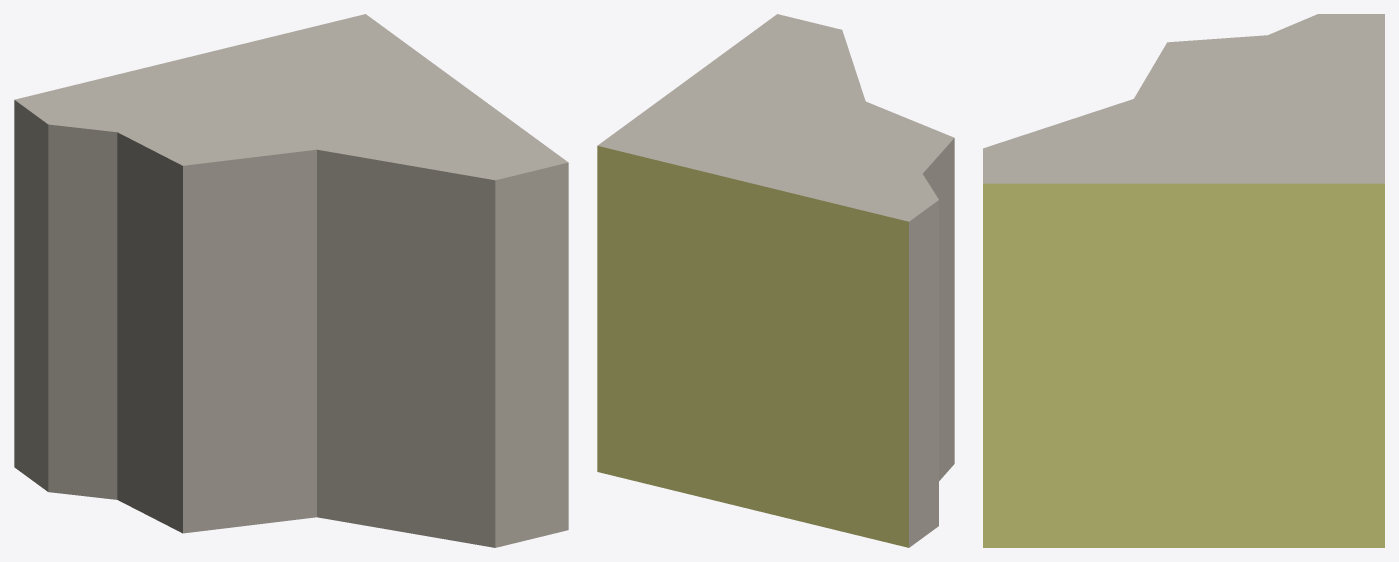
Rendered from Cracked_Curve_Outer_2x2_1_Mid.glb.
The picture shows the model from 3 angles, left to right: view 1: azimuth 30°, elevation 25°; view 2: azimuth 150°, elevation 25°; view 3: azimuth 270°, elevation 25°; orthographic projection. The views are drawn at different scales.
Visible parts, largest first — view 1: Cracked_Curve_Outer_2x2_1_Mid; view 2: Cracked_Curve_Outer_2x2_1_Mid; view 3: Cracked_Curve_Outer_2x2_1_Mid.
Boxes of the visible parts, x1,y1,x2,y2 form: Cracked_Curve_Outer_2x2_1_Mid: (14,14,568,547); Cracked_Curve_Outer_2x2_1_Mid: (597,14,954,547); Cracked_Curve_Outer_2x2_1_Mid: (983,14,1384,547).
Bounding box in the file's own units: 100 × 100 × 100.
